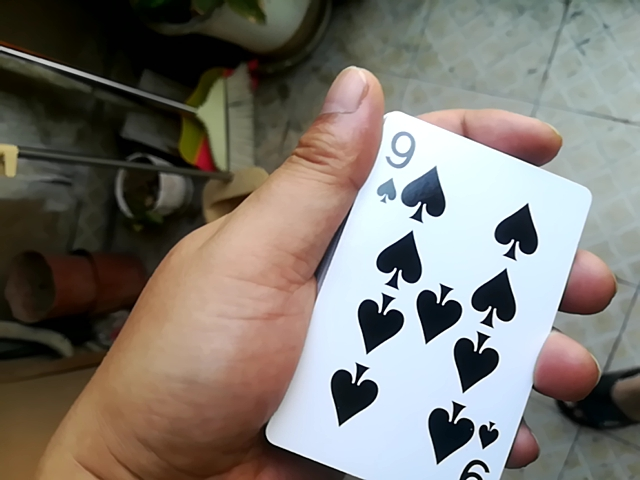ht 9: (274, 111, 593, 477)
